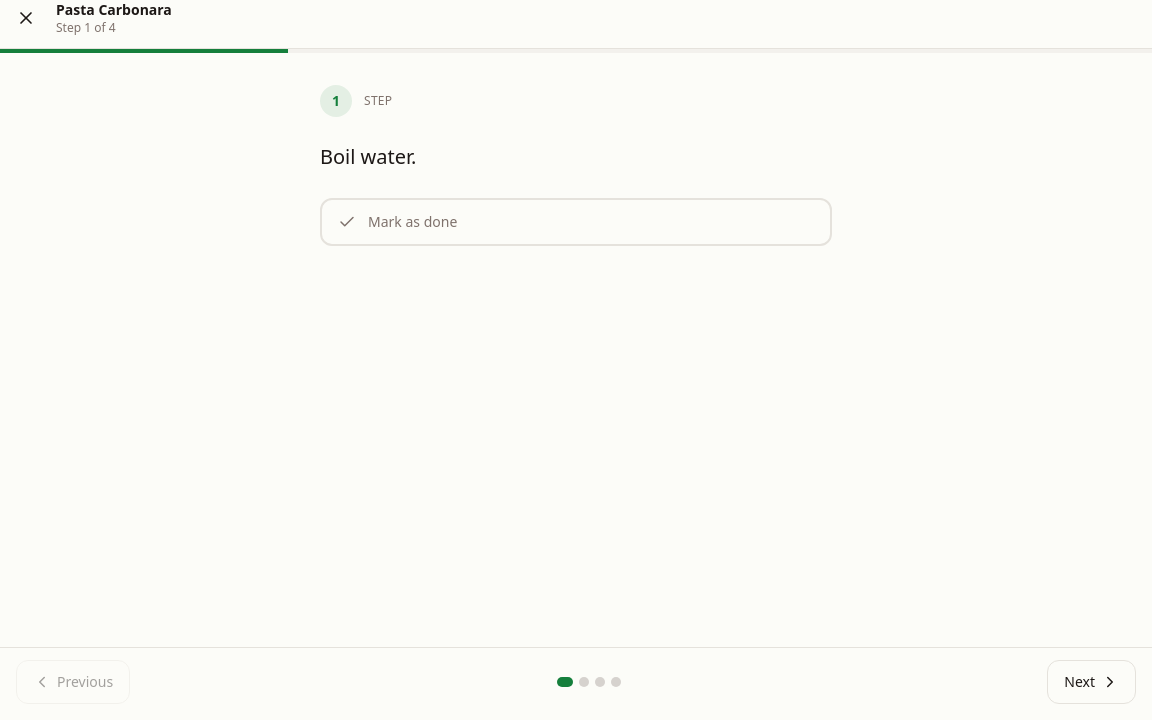
Test: CookModePage — rendering › next button is disabled on last step
Expected: the text "Pasta Carbonara" is shown, [56,0,172,19]
Click the button with aria-label "Next step": point(1092, 682) [1047,660,1136,704]
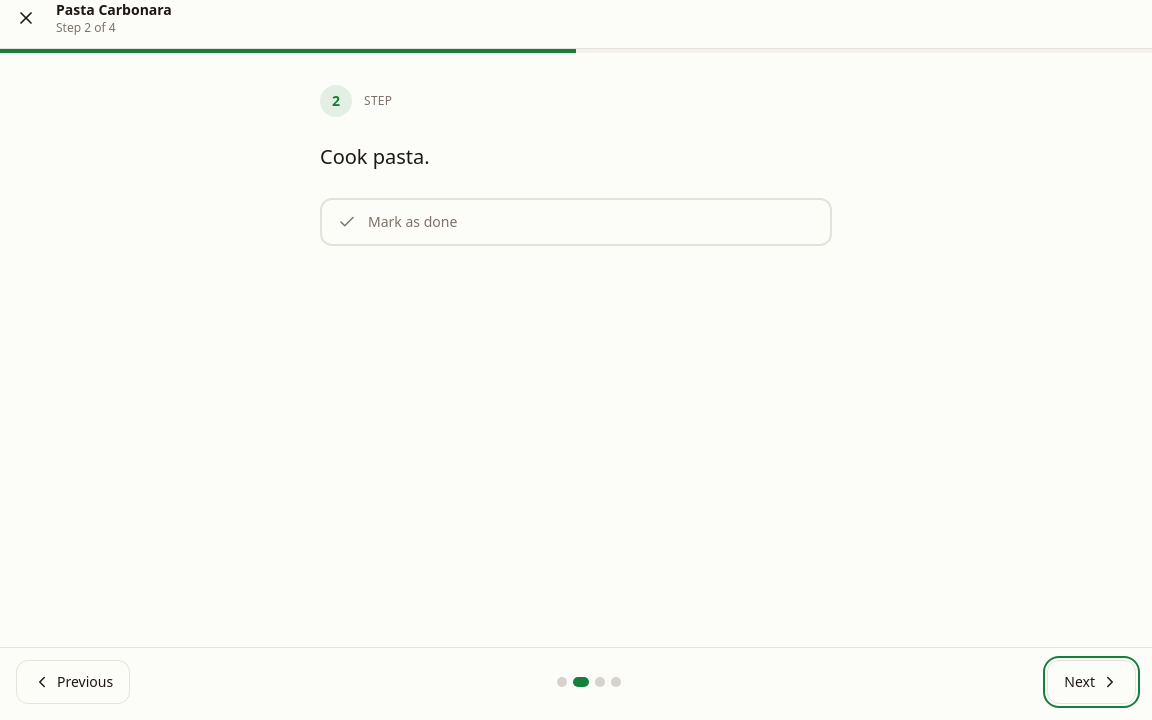
Click the button with aria-label "Next step": point(1092, 682) [1047,660,1136,704]
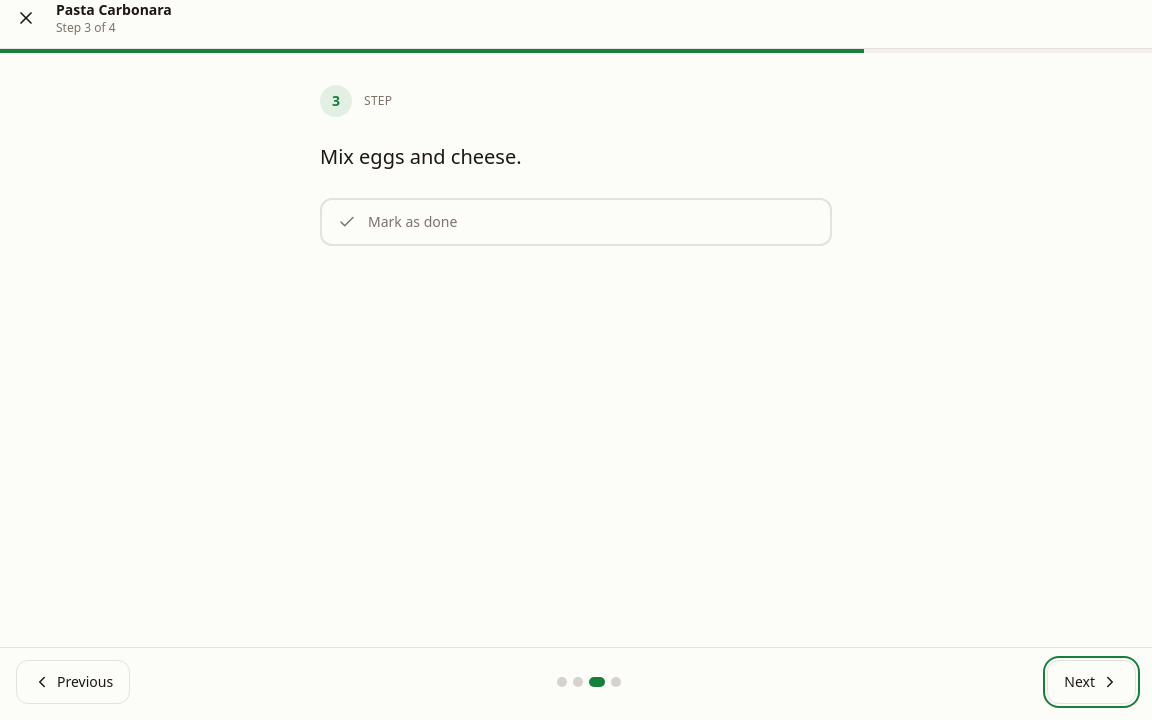
Click the button with aria-label "Next step": point(1092, 682) [1047,660,1136,704]
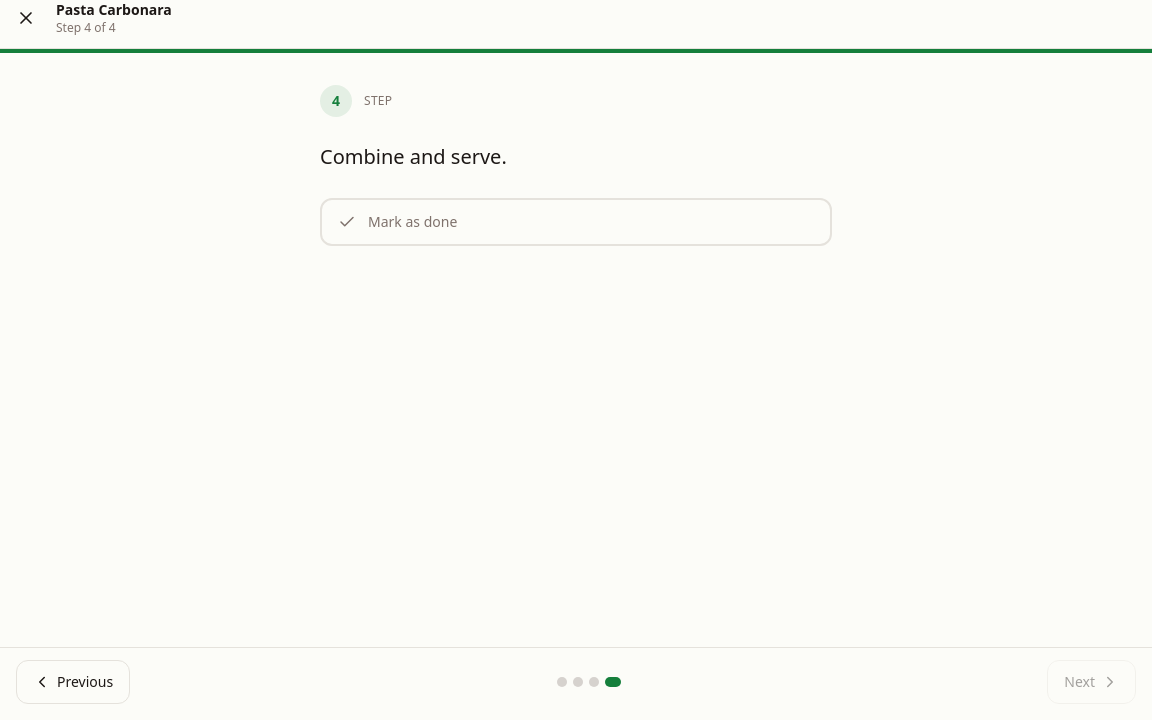
Expected: the button with aria-label "Next step" is disabled, [1047,660,1136,704]
